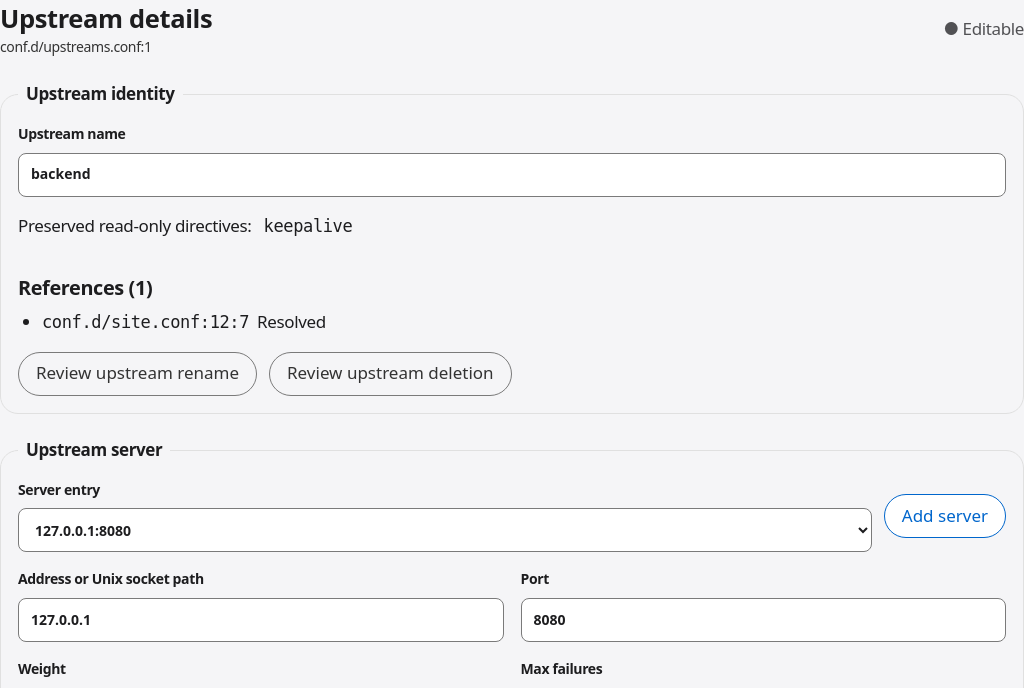
Test: UpstreamEditor › prevents a name edit and server edit from producing competing previews
Step 1. Replace the text in the field named "upstream-name" with "application" → x=512, y=175, box [18,153,1006,197]
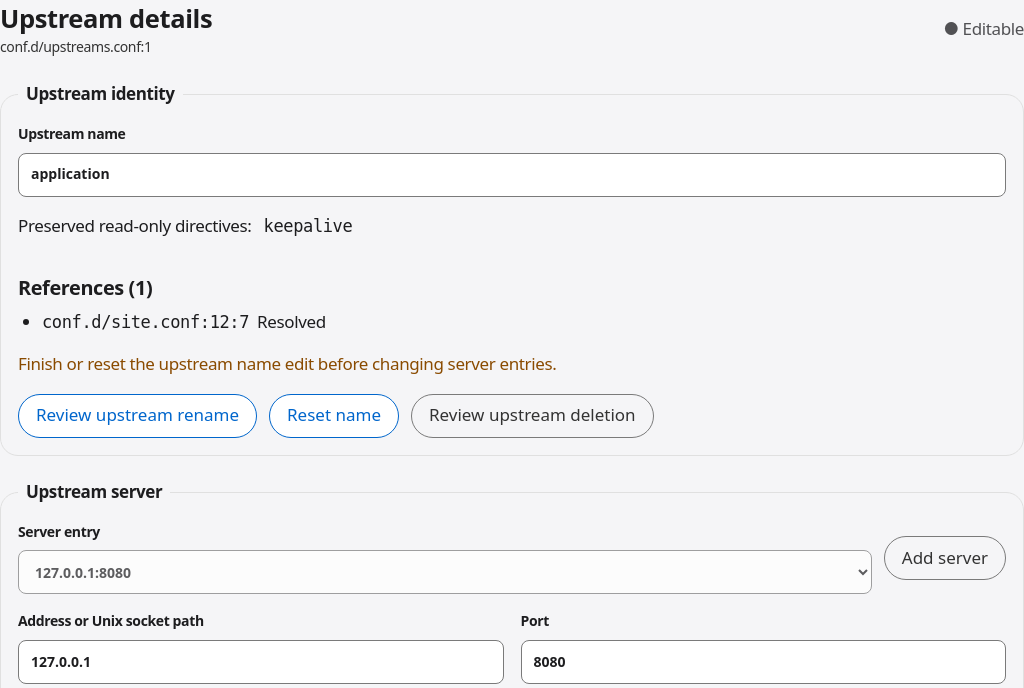
expect the button "Add server" is disabled: met, box [884,536,1006,580]
Step 2. Click the button "Reset name" → x=334, y=416, box [269,394,399,438]
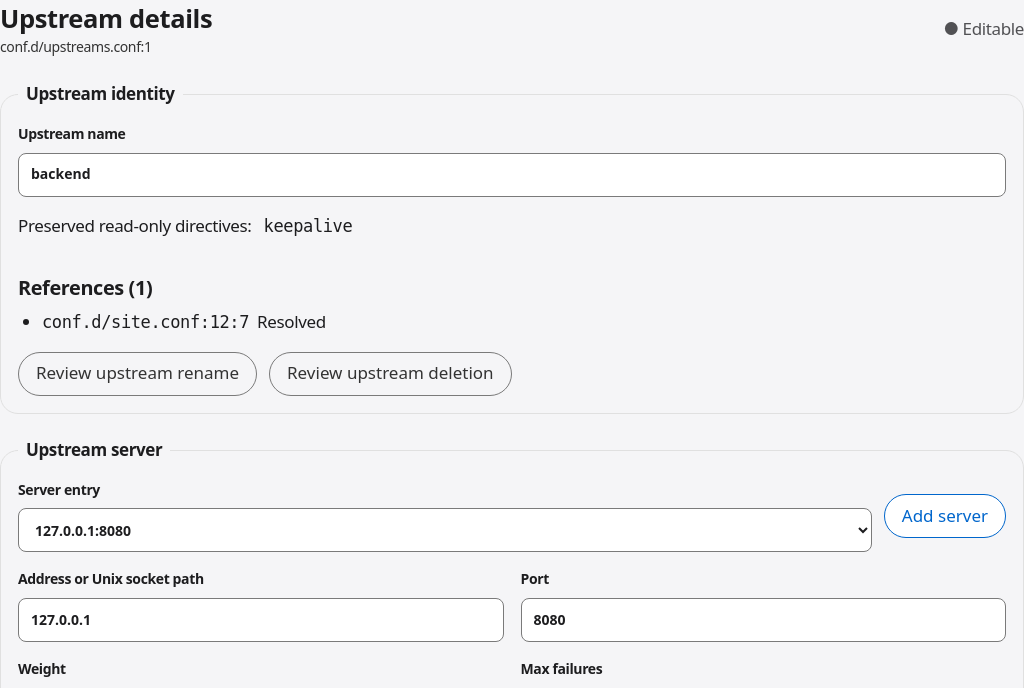
expect the field named "upstream-name" holds "backend": met, box [18,153,1006,197]
expect the button "Add server" is enabled: met, box [884,494,1006,538]
